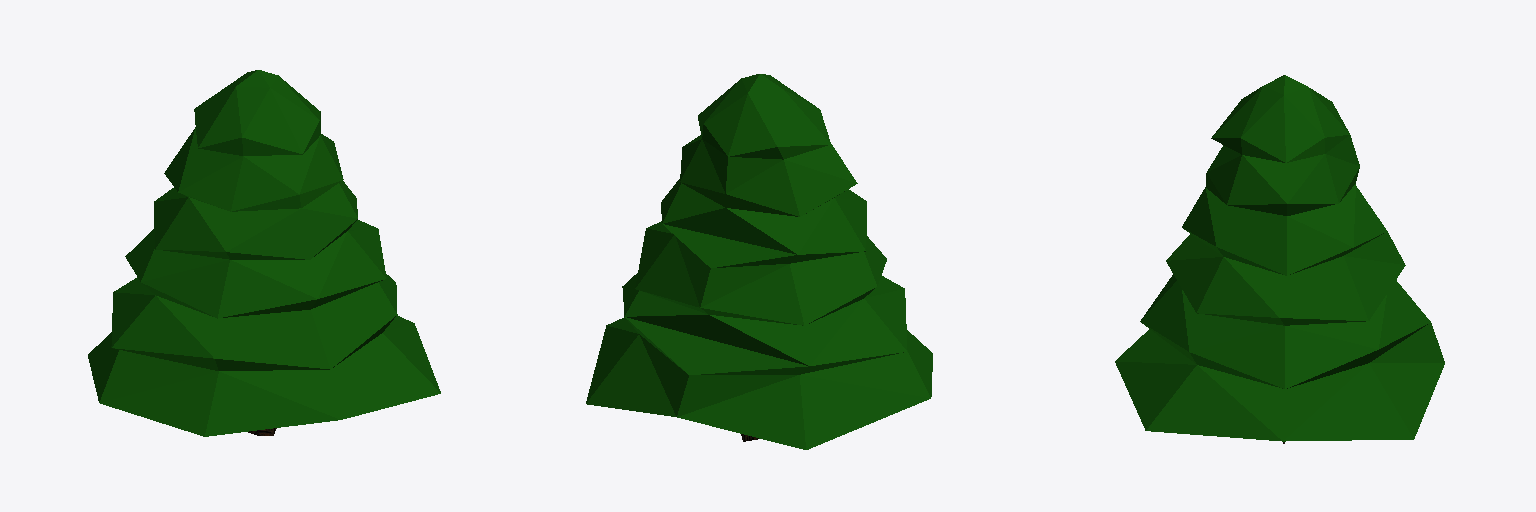
3 views of the same model, side by side, from view 1: azimuth 30°, elevation 25°; view 2: azimuth 150°, elevation 25°; view 3: azimuth 270°, elevation 25° (orthographic).
Visible parts, largest first — view 1: Cylinder_Cylinder.001; view 2: Cylinder_Cylinder.001; view 3: Cylinder_Cylinder.001.
Part boxes in pixels (x1,y1,x2,y2): Cylinder_Cylinder.001: (88,70,440,436); Cylinder_Cylinder.001: (586,74,932,449); Cylinder_Cylinder.001: (1115,75,1444,443).
Size of the model in its own units: 8.81 by 9.63 by 7.88.
Materials: 2 (2 with a texture image).